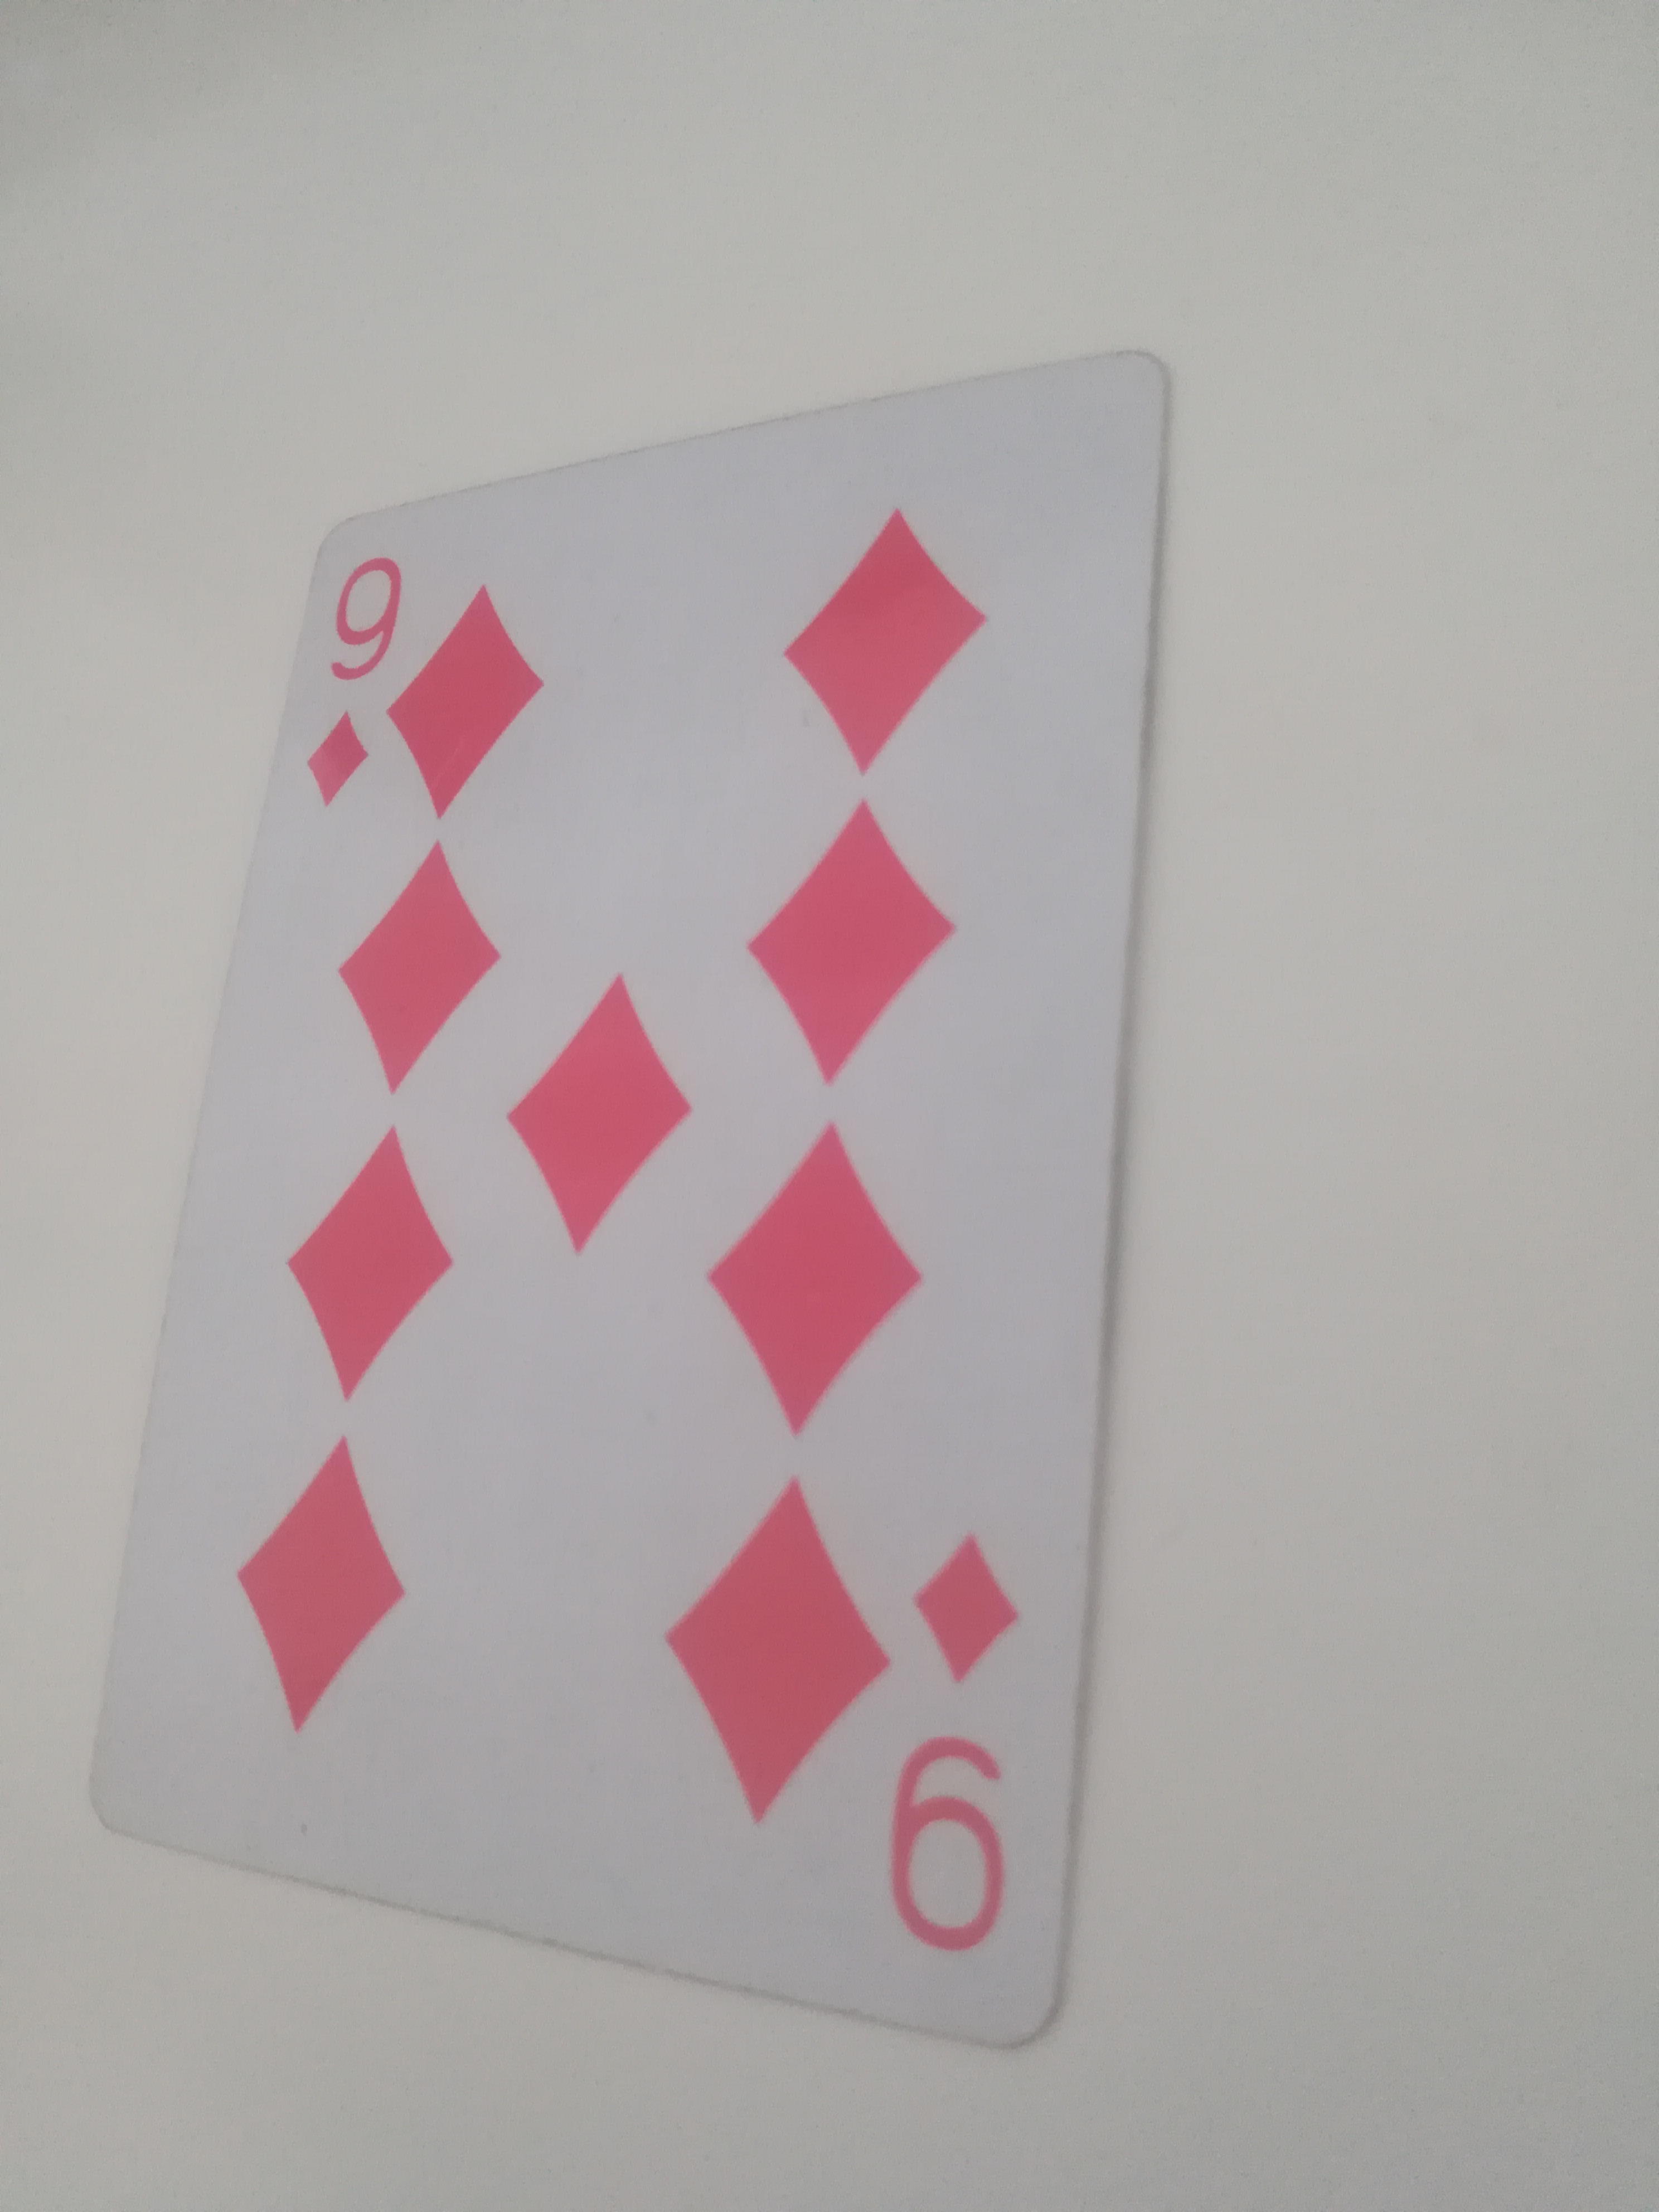9D: (84, 340, 1183, 2047)
